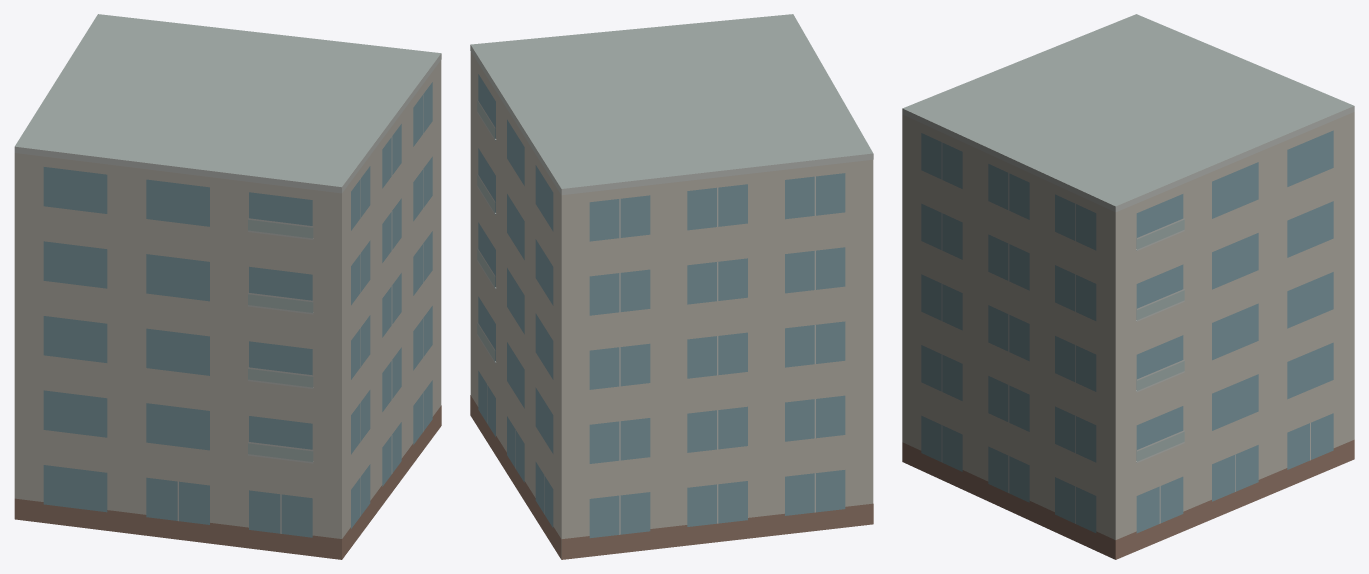
File: survey-upis-32967682.glb
3 renders of one model, left to right at view 1: azimuth 30°, elevation 25°; view 2: azimuth 150°, elevation 25°; view 3: azimuth 270°, elevation 25°, orthographic. The views are drawn at different scales.
Visible parts, largest first — view 1: survey-upis-32967682.tmp; view 2: survey-upis-32967682.tmp; view 3: survey-upis-32967682.tmp.
Part boxes in pixels (x1,y1,x2,y2): survey-upis-32967682.tmp: [14, 14, 441, 559]; survey-upis-32967682.tmp: [470, 14, 873, 559]; survey-upis-32967682.tmp: [902, 14, 1354, 559].
Bounding box in the file's own units: 16.94 × 14.5 × 16.82.
